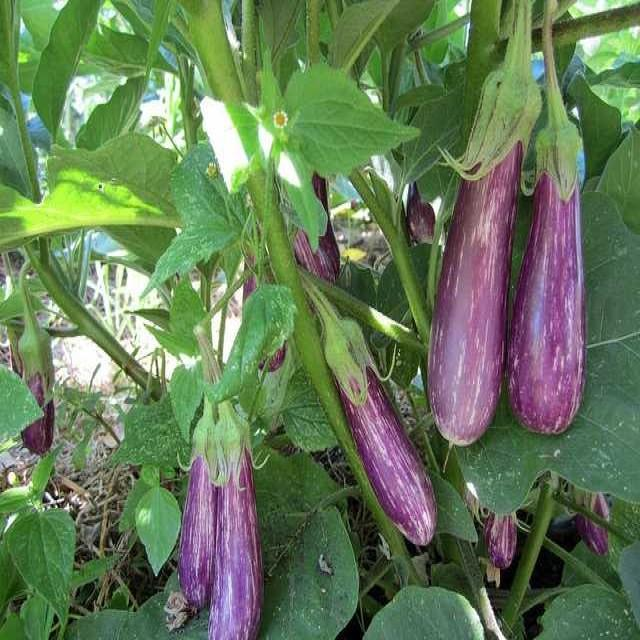Eggplant-r1Ob: (428, 0, 541, 445), (305, 278, 436, 545), (508, 0, 585, 433), (209, 400, 264, 639)
